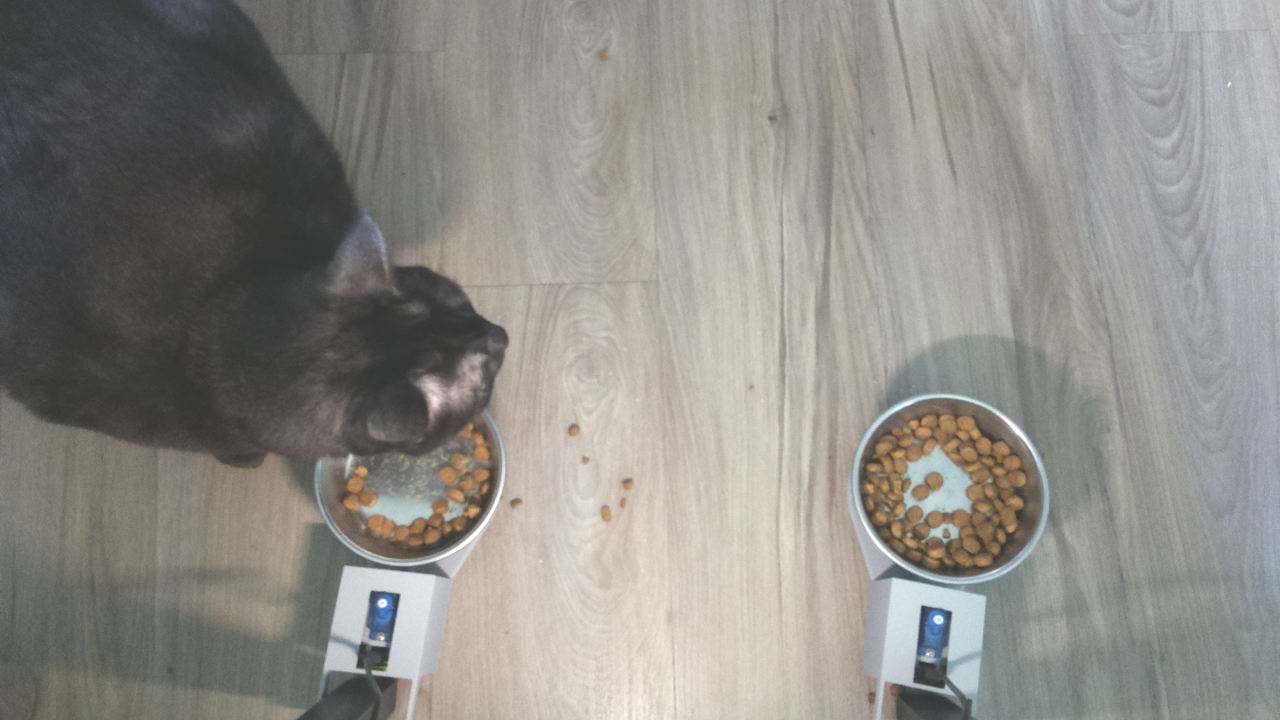open_bowl: (852, 392, 1054, 586), (315, 430, 506, 575)
